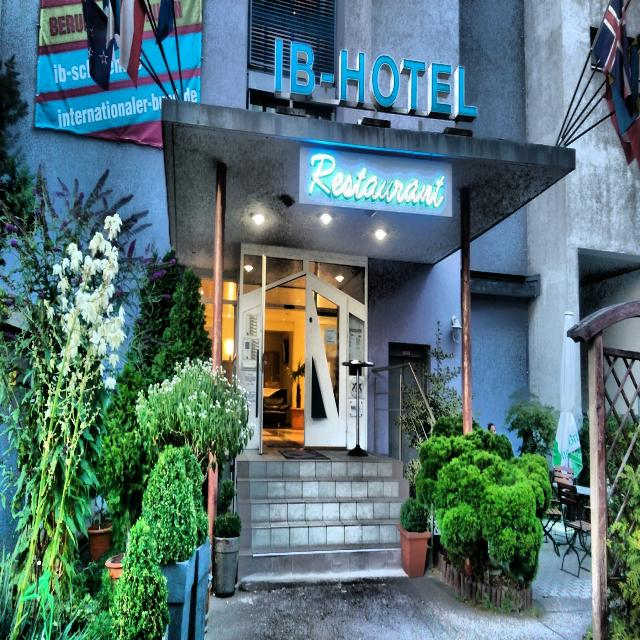escada: (231, 457, 407, 558)
